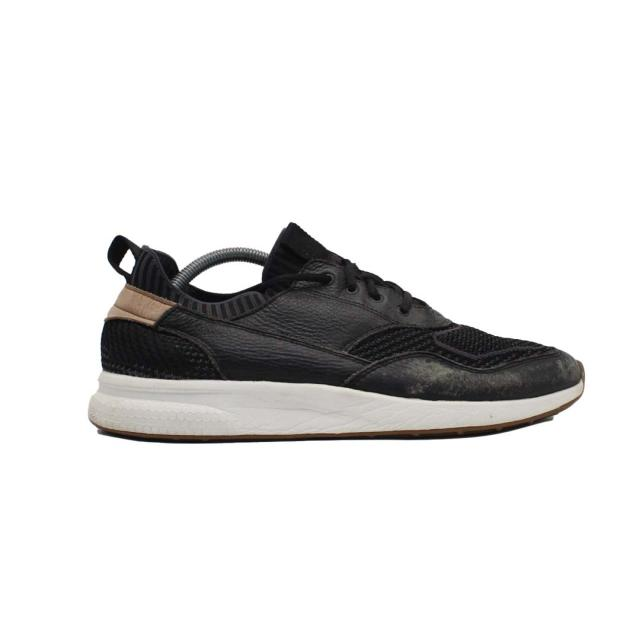heel: (90, 212, 163, 380)
midsole: (87, 370, 585, 442)
uppersole: (167, 234, 589, 394)
